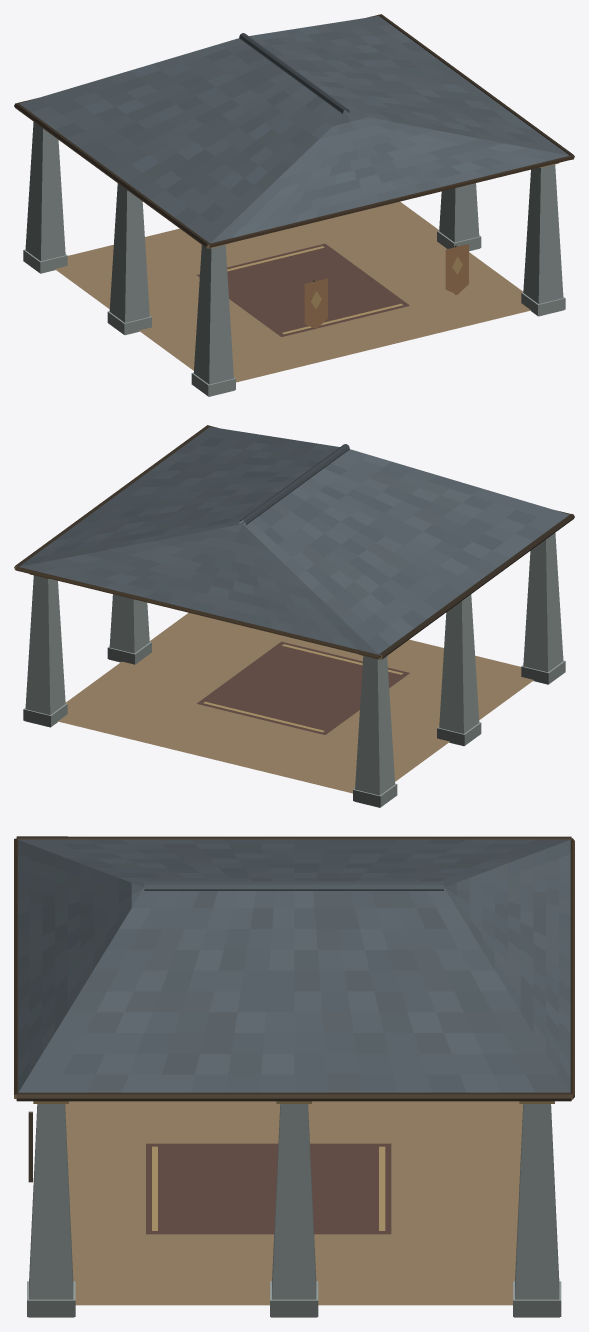
The picture shows the model from 3 angles, top to bottom: view 1: azimuth 30°, elevation 25°; view 2: azimuth 150°, elevation 25°; view 3: azimuth 270°, elevation 25°; orthographic projection. The views are drawn at different scales.
Parts seen in each view (by area): view 1: dab3f4fc40d4e2d529d275484011b43fc89e314e47b98ccbb056625ba16b; view 2: dab3f4fc40d4e2d529d275484011b43fc89e314e47b98ccbb056625ba16b; view 3: dab3f4fc40d4e2d529d275484011b43fc89e314e47b98ccbb056625ba16b.
Part boxes in pixels (x1,y1,x2,y2): dab3f4fc40d4e2d529d275484011b43fc89e314e47b98ccbb056625ba16b: [14, 14, 574, 396]; dab3f4fc40d4e2d529d275484011b43fc89e314e47b98ccbb056625ba16b: [14, 425, 574, 807]; dab3f4fc40d4e2d529d275484011b43fc89e314e47b98ccbb056625ba16b: [14, 836, 574, 1317].
Size of the model in its own units: 12.02 by 6.71 by 10.97.
6 materials, 1 textured.
